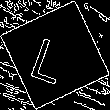L_N: (32, 26, 78, 84)
